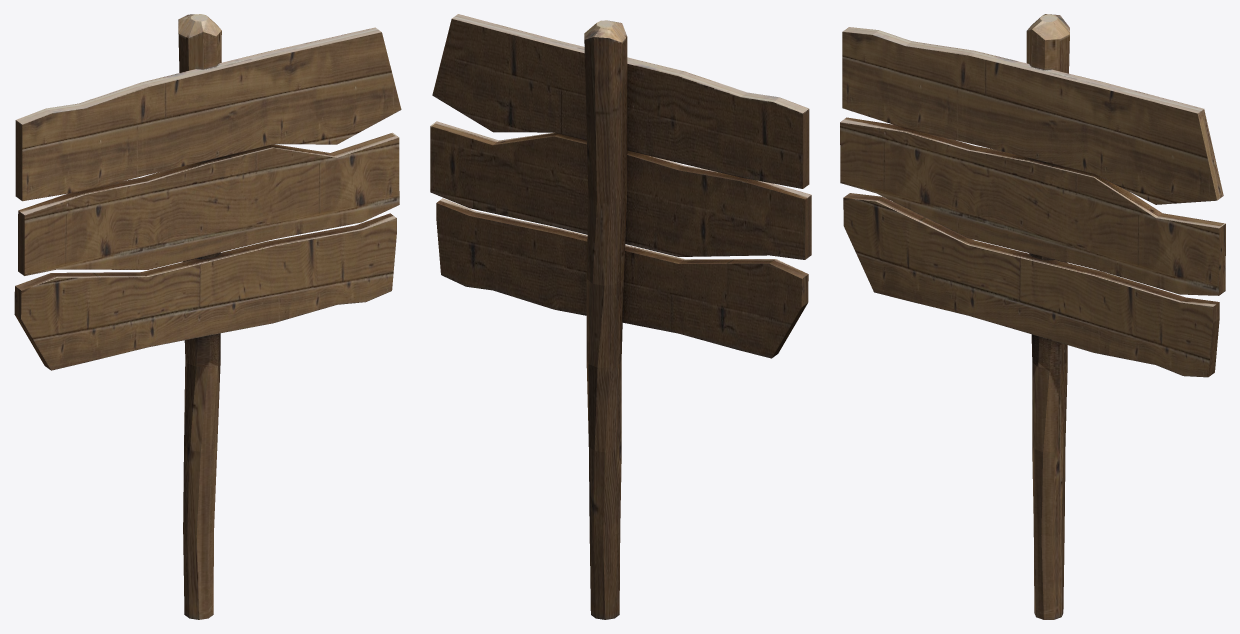
The model's file is placa001.glb.
3 renders of one model, left to right at view 1: azimuth 30°, elevation 25°; view 2: azimuth 150°, elevation 25°; view 3: azimuth 330°, elevation 25°, orthographic.
Parts seen in each view (by area): view 1: Sign_3_post_Baked_0; view 2: Sign_3_post_Baked_0; view 3: Sign_3_post_Baked_0.
Boxes of the visible parts, <box> form: Sign_3_post_Baked_0: <box>14,14,401,619</box>; Sign_3_post_Baked_0: <box>430,14,811,619</box>; Sign_3_post_Baked_0: <box>840,14,1225,619</box>.
Bounding box in the file's own units: 2 × 3.02 × 0.2602.
Materials: 1 (1 with a texture image).
